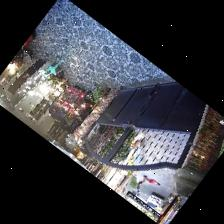person: (137, 174, 146, 190), (146, 178, 159, 184)
